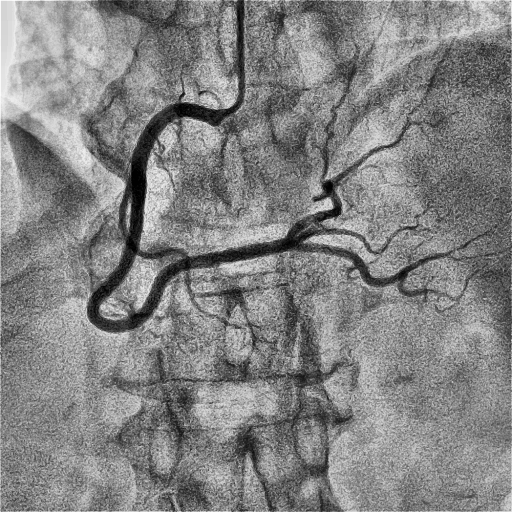pborca: (284, 119, 411, 241)
pda: (292, 230, 492, 287)
rca: (87, 103, 293, 332)
